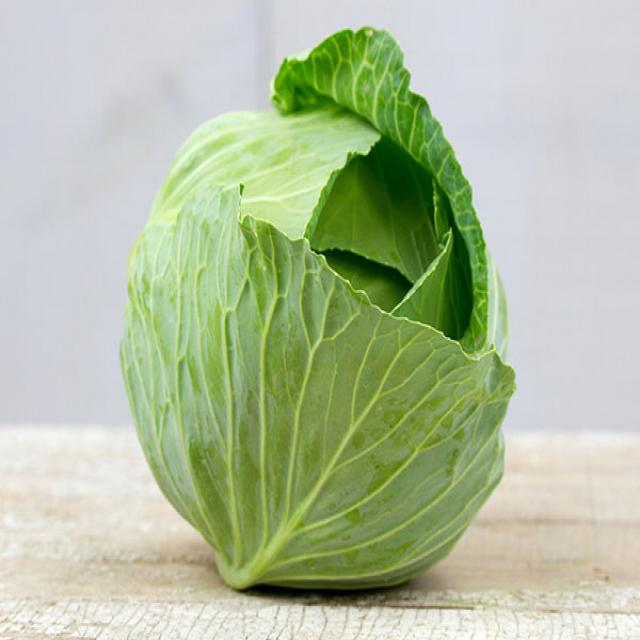cabbage: (73, 36, 576, 621)
